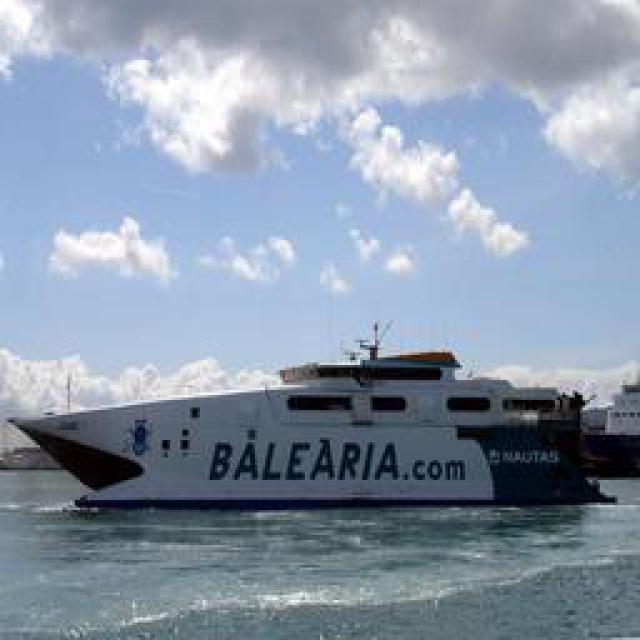Ship: (14, 351, 617, 511)
